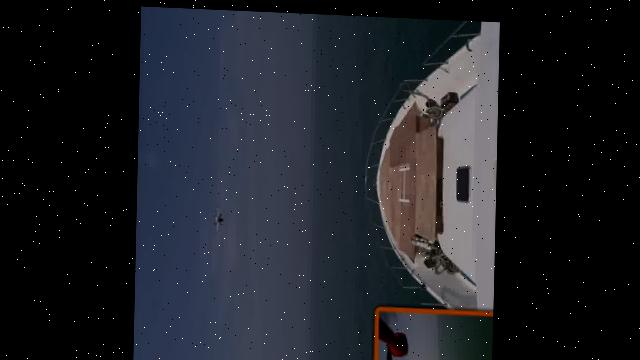drone: (212, 201, 231, 239)
